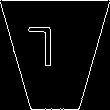L_S: (42, 30, 68, 80)
